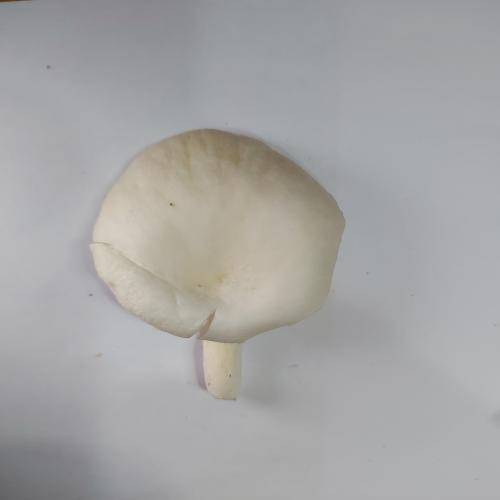Oyster Mushroom: (89, 127, 347, 401)
